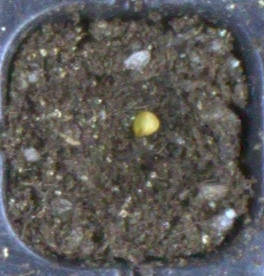chilli seed: (132, 110, 160, 137)
